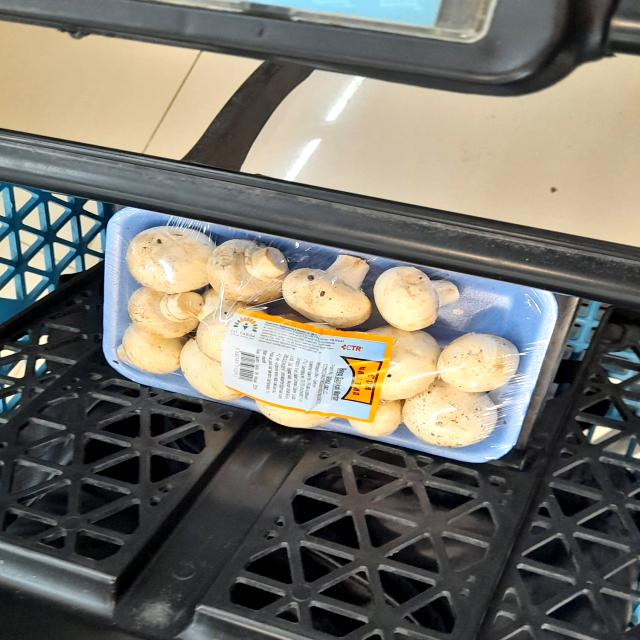mushroom: (283, 239, 375, 333), (203, 226, 296, 308), (370, 259, 469, 333), (402, 384, 505, 455), (126, 218, 215, 300), (433, 326, 528, 398), (120, 278, 206, 340)
